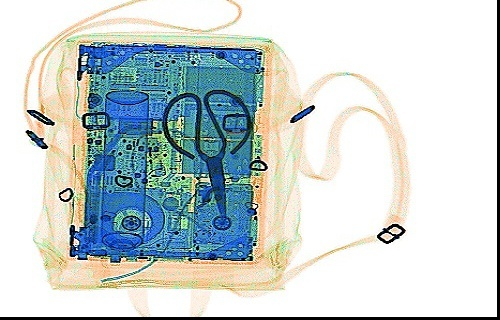pressure: (98, 88, 149, 249)
scissors: (161, 88, 251, 222)
